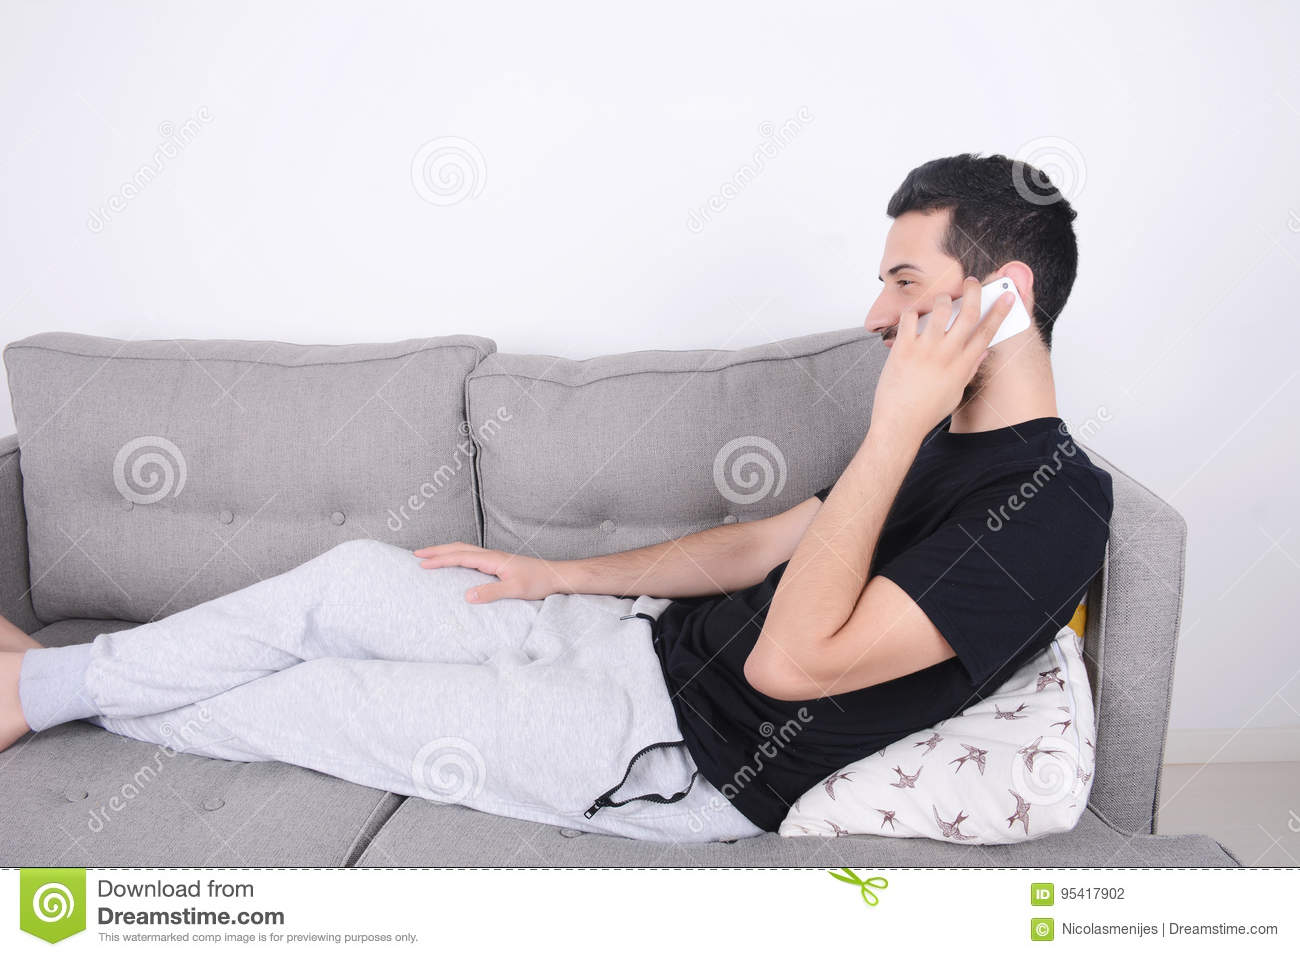phone: (904, 273, 1032, 363)
talk: (865, 258, 1035, 422)
